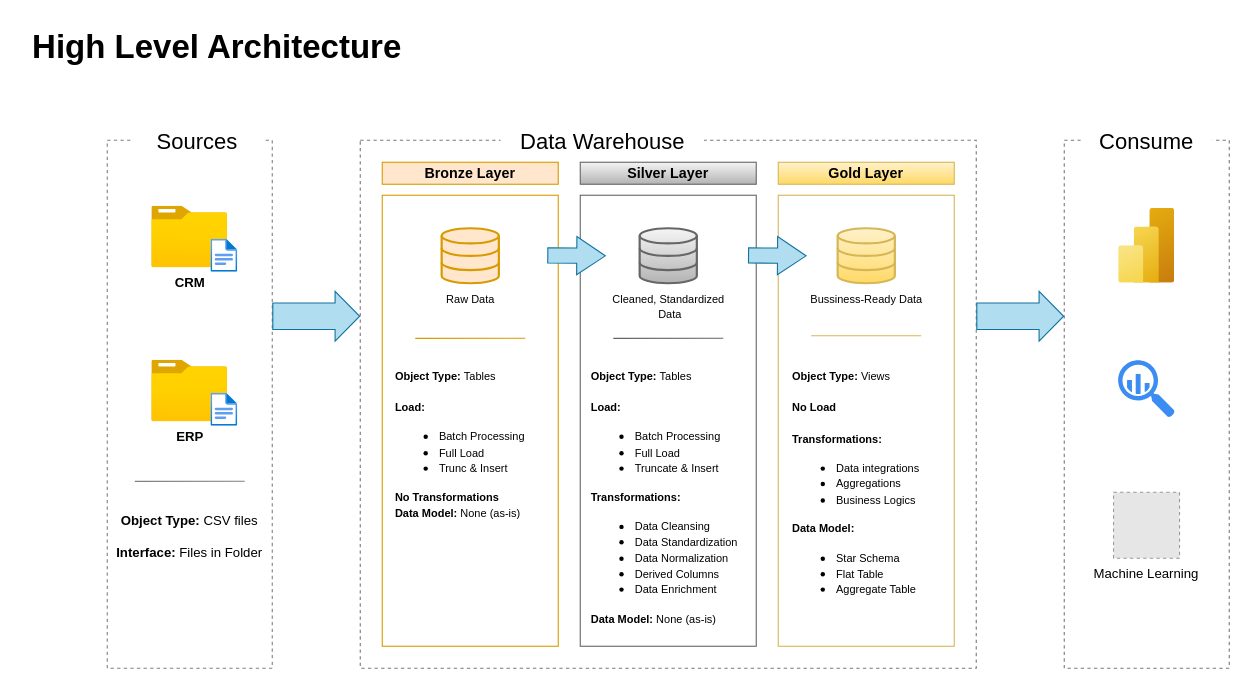
This 1249x688 diagram has some shape labels left out. Grey dashed boxes stand in for pictures. The centre of each missing label's shape, as x and y in pixels:
"Ad-Hoc SQL Queries" belongs at (x=1146, y=388).
"BI & Reporting" belongs at (x=1146, y=245).
